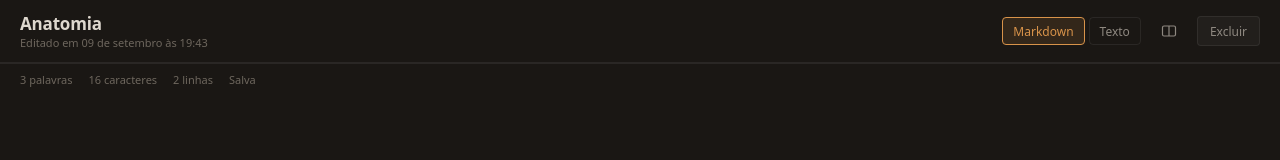
Test case: renomear a nota › clicar no título abre o campo com o nome atual
Click the heading "Anatomia" at (61, 24), box [20, 12, 102, 35]
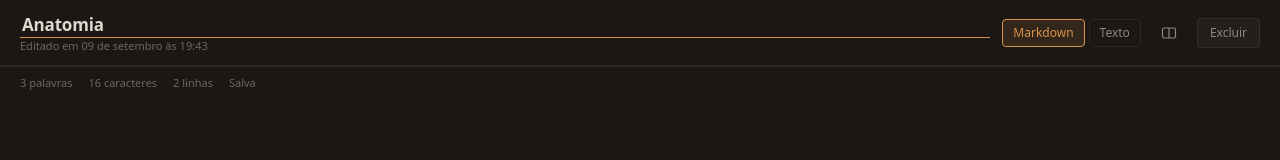
Expected: the field named "Título da nota" holds "Anatomia", [20, 12, 990, 38]
